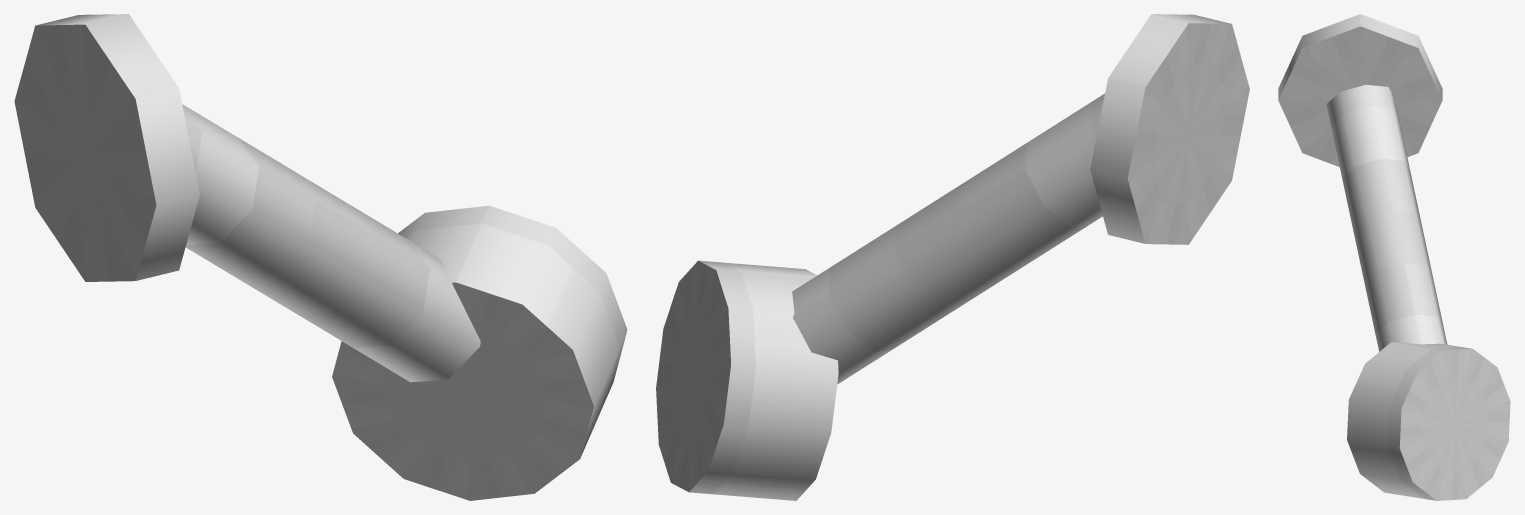
The model's file is nycsignalarm_stub_250.obj.
The picture shows the model from 3 angles, left to right: view 1: azimuth 30°, elevation 25°; view 2: azimuth 150°, elevation 25°; view 3: azimuth 270°, elevation 25°; orthographic projection. The views are drawn at different scales.
Parts seen in each view (by area): view 1: nycsignalarm_stub_250; view 2: nycsignalarm_stub_250; view 3: nycsignalarm_stub_250.
Part boxes in pixels (x1,y1,x2,y2): nycsignalarm_stub_250: (14,14,627,500); nycsignalarm_stub_250: (656,14,1249,500); nycsignalarm_stub_250: (1278,14,1510,500).
Bounding box in the file's own units: 0.8196 × 0.8362 × 0.4952.
